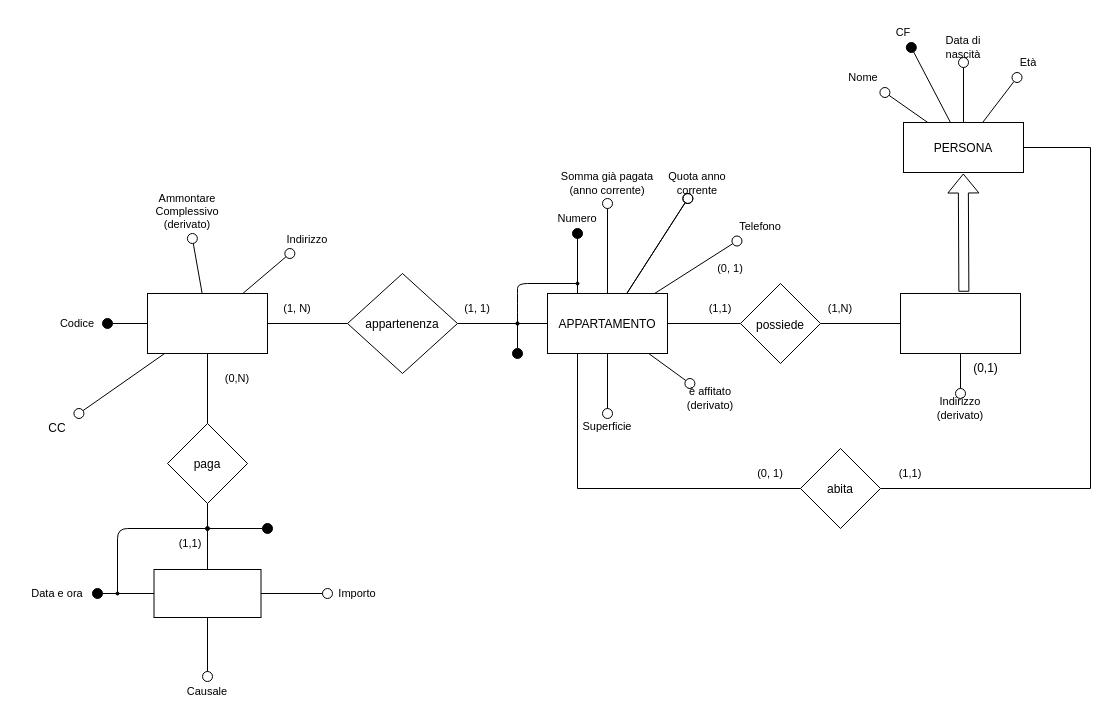
Image size: 1109x723. Some labels were removed from this diagram. Here are the shapes that lost their labels. From the top down, the centre of each, then its label:
pixel 207 323: CONDOMINIO
pixel 960 323: PROPRIETARIO
pixel 207 593: SPESA
